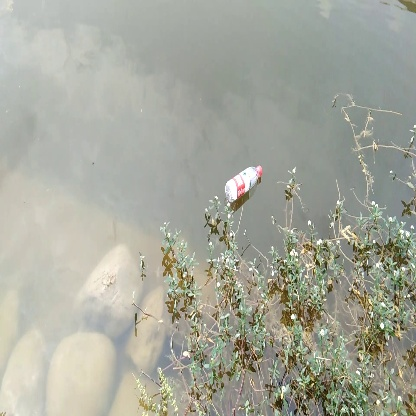bottle: (220, 161, 265, 206)
